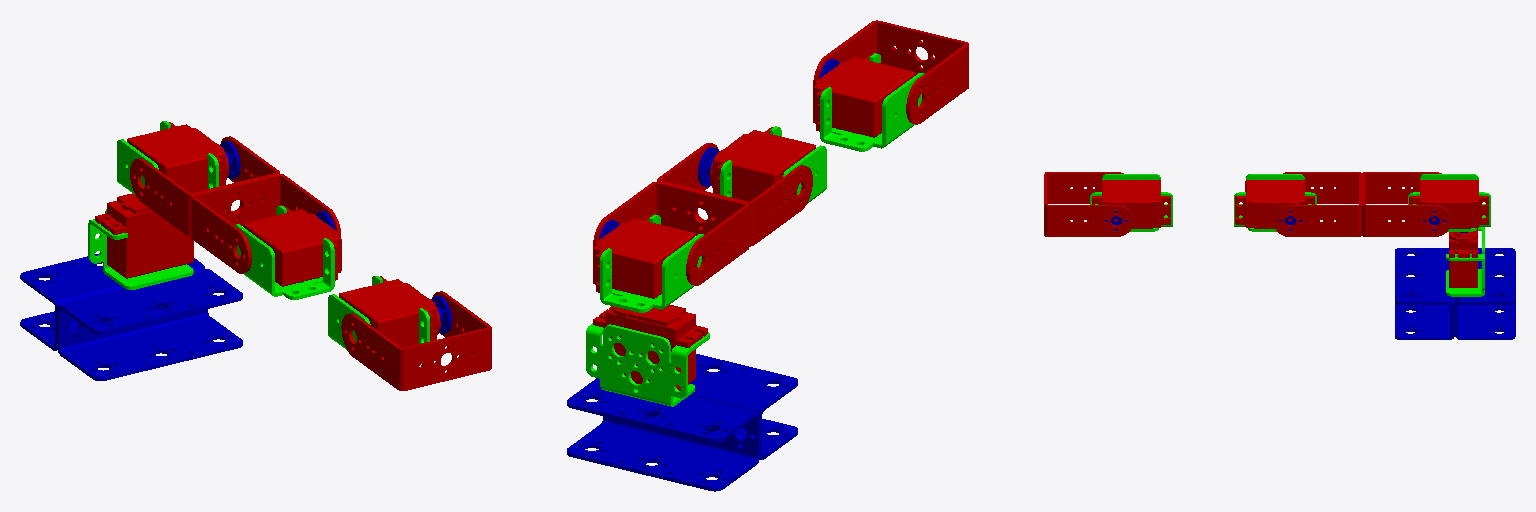
robot.urdf — test_robot:
<?xml version="1.0"?>
<robot name="test_robot">

  <material name="blue">
    <color rgba="0 0 0.8 1"/>
  </material>

  <material name="green">
    <color rgba="0 1 0 1"/>
  </material>

  <material name="red">
    <color rgba="0.8 0 0 1"/>
  </material>

  <link name="base_link">
    <visual>
     <geometry>
      <mesh filename="package://arm_20190630_3/meshes/base_bracket.stl" scale="0.01 0.01 0.01"/>
     </geometry>
     <material name="blue"/>
    </visual>
    <collision>
     <geometry>
      <mesh filename="package://arm_20190630_3/meshes/base_bracket.stl" scale="0.01 0.01 0.01"/>
     </geometry>
    </collision>
  </link>

  <joint name="joint1" type="fixed">
    <parent link="base_link"/>
    <child link="base_bracket_right"/>
    <origin xyz="0 0 0"/>
  </joint>

  <link name="base_bracket_right">
    <visual>
     <geometry>
      <mesh filename="package://arm_20190630_3/meshes/base_bracket.stl" scale="0.01 0.01 0.01"/>
     </geometry>
     <material name="blue"/>
     <origin rpy="0 0 3.1415" xyz="0 0 0"/>
    </visual>
    <collision>
     <geometry>
      <mesh filename="package://arm_20190630_3/meshes/base_bracket.stl" scale="0.01 0.01 0.01"/>
     </geometry>
    </collision>
  </link>

  <joint name="joint2" type="fixed">
    <parent link="base_link"/>
    <child link="base_servo_bracket"/>
    <origin rpy="0 0 1.5707" xyz="0.15 0.21 0"/>
  </joint>

  <link name="base_servo_bracket">
    <visual>
     <geometry>
      <mesh filename="package://arm_20190630_3/meshes/servo_bracket.stl" scale="0.01 0.01 0.01"/>
     </geometry>
     <material name="green"/>
     <origin rpy="0 0 1.5707" xyz="0 0 0"/>
    </visual>
    <collision>
     <geometry>
      <mesh filename="package://arm_20190630_3/meshes/servo_bracket.stl" scale="0.01 0.01 0.01"/>
     </geometry>
    </collision>
  </link>


  <joint name="joint3" type="fixed">
    <parent link="base_servo_bracket"/>
    <child link="base_servo"/>
    <origin xyz="-0.15 0 0.24"/>
  </joint>

  <link name="base_servo">
    <visual>
     <geometry>
      <mesh filename="package://arm_20190630_3/meshes/servo.stl" scale="0.01 0.01 0.01"/>
     </geometry>
     <material name="red"/>
     <origin rpy="1.5707 0 -1.5707" xyz="0 0 0"/>
    </visual>
    <collision>
     <geometry>
      <mesh filename="package://arm_20190630_3/meshes/servo.stl" scale="0.01 0.01 0.01"/>
     </geometry>
    </collision>
  </link>


  <joint name="joint4" type="revolute">
    <parent link="base_servo"/>
    <child link="base_servo_disc"/>
    <origin rpy="-1.5707 0 0" xyz="0 -0.105 0.27"/>
    <axis xyz="0 1 0"/>
    <limit effort="1000.0" lower="0.0" upper="3.1415" velocity="0.5"/>
  </joint>

  <link name="base_servo_disc">
    <visual>
     <geometry>
      <mesh filename="package://arm_20190630_3/meshes/servo_disc.stl" scale="0.01 0.01 0.01"/>
     </geometry>
     <material name="blue"/>
     <origin rpy="0 0 0" xyz="0 0 0"/>
    </visual>
    <collision>
     <geometry>
      <mesh filename="package://arm_20190630_3/meshes/servo_disc.stl" scale="0.01 0.01 0.01"/>
     </geometry>
    </collision>
  </link>


  <!-- Shoulder 1 block -->

  <joint name="joint5" type="fixed">
    <parent link="base_servo_disc"/>
    <child link="shoulder_servo_bracket"/>
    <origin rpy="3.1415 0 1.5707" xyz="-0.1 0 0.25"/>
  </joint>

  <link name="shoulder_servo_bracket">
    <visual>
     <geometry>
      <mesh filename="package://arm_20190630_3/meshes/servo_bracket.stl" scale="0.01 0.01 0.01"/>
     </geometry>
     <material name="green"/>
     <origin rpy="0 0 1.5707" xyz="0 0 0"/>
    </visual>
    <collision>
     <geometry>
      <mesh filename="package://arm_20190630_3/meshes/servo_bracket.stl" scale="0.01 0.01 0.01"/>
     </geometry>
    </collision>
  </link>


  <joint name="joint6" type="fixed">
    <parent link="shoulder_servo_bracket"/>
    <child link="shoulder_servo"/>
    <origin xyz="-0.15 0 0.24"/>
  </joint>

  <link name="shoulder_servo">
    <visual>
     <geometry>
      <mesh filename="package://arm_20190630_3/meshes/servo.stl" scale="0.01 0.01 0.01"/>
     </geometry>
     <material name="red"/>
     <origin rpy="1.5707 0 -1.5707" xyz="0 0 0"/>
    </visual>
    <collision>
     <geometry>
      <mesh filename="package://arm_20190630_3/meshes/servo.stl" scale="0.01 0.01 0.01"/>
     </geometry>
    </collision>
  </link>


  <joint name="joint7" type="revolute">
    <parent link="shoulder_servo"/>
    <child link="shoulder_servo_disc"/>
    <origin rpy="-1.5707 0 0" xyz="0 -0.105 0.27"/>
    <axis xyz="0 1 0"/>
    <limit effort="1000.0" lower="0.0" upper="3.1415" velocity="0.5"/>
  </joint>

  <link name="shoulder_servo_disc">
    <visual>
     <geometry>
      <mesh filename="package://arm_20190630_3/meshes/servo_disc.stl" scale="0.01 0.01 0.01"/>
     </geometry>
     <material name="blue"/>
     <origin rpy="0 0 0" xyz="0 0 0"/>
    </visual>
    <collision>
     <geometry>
      <mesh filename="package://arm_20190630_3/meshes/servo_disc.stl" scale="0.01 0.01 0.01"/>
     </geometry>
    </collision>
  </link>

  <joint name="joint8" type="fixed">
    <parent link="shoulder_servo_disc"/>
    <child link="shoulder_bracket"/>
    <origin rpy="1.5707 0 -1.5707" xyz="0 0.26 -0.5"/>
  </joint>

  <link name="shoulder_bracket">
    <visual>
     <geometry>
      <mesh filename="package://arm_20190630_3/meshes/u_bracket.stl" scale="0.01 0.01 0.01"/>
     </geometry>
     <material name="red"/>
    </visual>
    <collision>
     <geometry>
      <mesh filename="package://arm_20190630_3/meshes/u_bracket.stl" scale="0.01 0.01 0.01"/>
     </geometry>
    </collision>
  </link>


  <!-- Shoulder 2 block -->

  <joint name="joint9" type="fixed">
    <parent link="shoulder_bracket"/>
    <child link="shoulder2_bracket"/>
    <origin rpy="3.1415 0 0" xyz="0 0 0"/>
  </joint>

  <link name="shoulder2_bracket">
    <visual>
     <geometry>
      <mesh filename="package://arm_20190630_3/meshes/u_bracket.stl" scale="0.01 0.01 0.01"/>
     </geometry>
     <material name="red"/>
    </visual>
    <collision>
     <geometry>
      <mesh filename="package://arm_20190630_3/meshes/u_bracket.stl" scale="0.01 0.01 0.01"/>
     </geometry>
    </collision>
  </link>

  <joint name="joint10" type="revolute">
    <parent link="shoulder2_bracket"/>
    <child link="shoulder2_servo_disc"/>
    <origin rpy="0 0 1.5707" xyz="0.26 0.5 0"/>
    <axis xyz="0 1 0"/>
    <limit effort="1000.0" lower="-1.5707" upper="1.5707" velocity="0.5"/>
  </joint>

  <link name="shoulder2_servo_disc">
    <visual>
     <geometry>
      <mesh filename="package://arm_20190630_3/meshes/servo_disc.stl" scale="0.01 0.01 0.01"/>
     </geometry>
     <material name="blue"/>
     <origin rpy="0 0 0" xyz="0 0 0"/>
    </visual>
    <collision>
     <geometry>
      <mesh filename="package://arm_20190630_3/meshes/servo_disc.stl" scale="0.01 0.01 0.01"/>
     </geometry>
    </collision>
  </link>

  <joint name="joint11" type="fixed">
    <parent link="shoulder2_servo_disc"/>
    <child link="shoulder2_servo"/>
    <origin rpy="3.1415 3.1415 0" xyz="0.105 0.27 0"/>
  </joint>

  <link name="shoulder2_servo">
    <visual>
     <geometry>
      <mesh filename="package://arm_20190630_3/meshes/servo.stl" scale="0.01 0.01 0.01"/>
     </geometry>
     <material name="red"/>
     <origin rpy="0 0 0" xyz="0 0 0"/>
    </visual>
    <collision>
     <geometry>
      <mesh filename="package://arm_20190630_3/meshes/servo.stl" scale="0.01 0.01 0.01"/>
     </geometry>
    </collision>
  </link>

  <joint name="joint12" type="fixed">
    <parent link="shoulder2_servo"/>
    <child link="shoulder2_servo_bracket"/>
    <origin rpy="-1.5707 0 0" xyz="0 -0.24 0.15"/>
  </joint>

  <link name="shoulder2_servo_bracket">
    <visual>
     <geometry>
      <mesh filename="package://arm_20190630_3/meshes/servo_bracket.stl" scale="0.01 0.01 0.01"/>
     </geometry>
     <material name="green"/>
     <origin rpy="0 0 0" xyz="0 0 0"/>
    </visual>
    <collision>
     <geometry>
      <mesh filename="package://arm_20190630_3/meshes/servo_bracket.stl" scale="0.01 0.01 0.01"/>
     </geometry>
    </collision>
  </link>


  <!-- Elbow block -->

  <joint name="joint13" type="fixed">
    <parent link="shoulder2_servo_bracket"/>
    <child link="elbow_servo_bracket"/>
    <origin rpy="0 0 -1.5707" xyz="-1.0 0 0"/>
  </joint>

  <link name="elbow_servo_bracket">
    <visual>
     <geometry>
      <mesh filename="package://arm_20190630_3/meshes/servo_bracket.stl" scale="0.01 0.01 0.01"/>
     </geometry>
     <material name="green"/>
     <origin rpy="0 0 1.5707" xyz="0 0 0"/>
    </visual>
    <collision>
     <geometry>
      <mesh filename="package://arm_20190630_3/meshes/servo_bracket.stl" scale="0.01 0.01 0.01"/>
     </geometry>
    </collision>
  </link>

  <joint name="joint14" type="fixed">
    <parent link="elbow_servo_bracket"/>
    <child link="elbow_servo"/>
    <origin xyz="-0.15 0 0.24"/>
  </joint>

  <link name="elbow_servo">
    <visual>
     <geometry>
      <mesh filename="package://arm_20190630_3/meshes/servo.stl" scale="0.01 0.01 0.01"/>
     </geometry>
     <material name="red"/>
     <origin rpy="1.5707 0 -1.5707" xyz="0 0 0"/>
    </visual>
    <collision>
     <geometry>
      <mesh filename="package://arm_20190630_3/meshes/servo.stl" scale="0.01 0.01 0.01"/>
     </geometry>
    </collision>
  </link>


  <joint name="joint15" type="revolute">
    <parent link="elbow_servo"/>
    <child link="elbow_servo_disc"/>
    <origin rpy="-1.5707 0 0" xyz="0 -0.105 0.27"/>
    <axis xyz="0 1 0"/>
    <limit effort="1000.0" lower="0.0" upper="3.1415" velocity="0.5"/>
  </joint>

  <link name="elbow_servo_disc">
    <visual>
     <geometry>
      <mesh filename="package://arm_20190630_3/meshes/servo_disc.stl" scale="0.01 0.01 0.01"/>
     </geometry>
     <material name="blue"/>
     <origin rpy="0 0 0" xyz="0 0 0"/>
    </visual>
    <collision>
     <geometry>
      <mesh filename="package://arm_20190630_3/meshes/servo_disc.stl" scale="0.01 0.01 0.01"/>
     </geometry>
    </collision>
  </link>

  <joint name="joint16" type="fixed">
    <parent link="elbow_servo_disc"/>
    <child link="elbow_bracket"/>
    <origin rpy="1.5707 0 -1.5707" xyz="0 0.26 -0.5"/>
  </joint>

  <link name="elbow_bracket">
    <visual>
     <geometry>
      <mesh filename="package://arm_20190630_3/meshes/u_bracket.stl" scale="0.01 0.01 0.01"/>
     </geometry>
     <material name="red"/>
    </visual>
    <collision>
     <geometry>
      <mesh filename="package://arm_20190630_3/meshes/u_bracket.stl" scale="0.01 0.01 0.01"/>
     </geometry>
    </collision>
  </link>







  <!-- Shoulder 2 block -->
<!-- 
  <joint name="joint9" type="fixed">
    <parent link="shoulder_bracket_1"/>
    <child link="shoulder2_servo_bracket"/>
    <origin rpy="0 1.5707 3.1415" xyz="0.25 -0.61 -0.15"/>
  </joint>

  <link name="shoulder2_servo_bracket">
    <visual>
     <geometry>
      <mesh filename="package://arm_20190630_3/meshes/servo_bracket.stl" scale="0.01 0.01 0.01"/>
     </geometry>
     <material name="green"/>
     <origin rpy="0 0 1.5707" xyz="0 0 0"/>
    </visual>
    <collision>
     <geometry>
      <mesh filename="package://arm_20190630_3/meshes/servo_bracket.stl" scale="0.01 0.01 0.01"/>
     </geometry>
    </collision>
  </link>


  <joint name="joint10" type="fixed">
    <parent link="shoulder2_servo_bracket"/>
    <child link="shoulder2_servo"/>
    <origin xyz="-0.15 0 0.24"/>
  </joint>

  <link name="shoulder2_servo">
    <visual>
     <geometry>
      <mesh filename="package://arm_20190630_3/meshes/servo.stl" scale="0.01 0.01 0.01"/>
     </geometry>
     <material name="red"/>
     <origin rpy="1.5707 0 -1.5707" xyz="0 0 0"/>
    </visual>
    <collision>
     <geometry>
      <mesh filename="package://arm_20190630_3/meshes/servo.stl" scale="0.01 0.01 0.01"/>
     </geometry>
    </collision>
  </link>


  <joint name="joint11" type="revolute">
    <parent link="shoulder2_servo"/>
    <child link="shoulder2_servo_disc"/>
    <origin rpy="-1.5707 0 0" xyz="0 -0.105 0.27"/>
    <axis xyz="0 1 0"/>
    <limit effort="1000.0" lower="0.0" upper="3.1415" velocity="0.5"/>
  </joint>

  <link name="shoulder2_servo_disc">
    <visual>
     <geometry>
      <mesh filename="package://arm_20190630_3/meshes/servo_disc.stl" scale="0.01 0.01 0.01"/>
     </geometry>
     <material name="blue"/>
     <origin rpy="0 0 0" xyz="0 0 0"/>
    </visual>
    <collision>
     <geometry>
      <mesh filename="package://arm_20190630_3/meshes/servo_disc.stl" scale="0.01 0.01 0.01"/>
     </geometry>
    </collision>
  </link>


  <joint name="joint12" type="fixed">
    <parent link="shoulder2_servo_disc"/>
    <child link="shoulder2_bracket_1"/>
    <origin rpy="1.5707 0 -1.5707" xyz="0 0.26 -0.5"/>
  </joint>

  <link name="shoulder2_bracket_1">
    <visual>
     <geometry>
      <mesh filename="package://arm_20190630_3/meshes/u_bracket.stl" scale="0.01 0.01 0.01"/>
     </geometry>
     <material name="red"/>
    </visual>
    <collision>
     <geometry>
      <mesh filename="package://arm_20190630_3/meshes/u_bracket.stl" scale="0.01 0.01 0.01"/>
     </geometry>
    </collision>
  </link>

 -->








<!--
  <joint name="joint2" type="revolute">
    <axis xyz="-1 0 0" />
    <limit effort="1000.0" lower="-1.708" upper="1.708" velocity="1.0" />
    <origin xyz="0 0 0.093" rpy="0 0 0" />
    <parent link="platform"/>
    <child link="lower_arm"/>
  </joint>

  <joint name="joint3" type="revolute">
    <axis xyz="1 0 0" />
    <limit effort="1000.0" lower="-1.708" upper="1.708" velocity="1.0" />
    <origin xyz="0 0 0.121" rpy="0 0 0" />
    <parent link="lower_arm"/>
    <child link="upper_arm"/>
  </joint>

  <joint name="joint4" type="revolute">
    <axis xyz="-1 0 0" />
    <limit effort="1000.0" lower="-1.708" upper="1.708" velocity="1.0" />
    <origin xyz="0 0 0.112" rpy="0 0 0" />
    <parent link="upper_arm"/>
    <child link="wrist"/>
  </joint>

  <joint name="joint5" type="fixed">
    <axis xyz="-1 0 0" />
    <origin xyz="0 0 0.112" rpy="0 0 0" />
    <parent link="wrist"/>
    <child link="claw_base"/>
  </joint>

  <joint name="joint6" type="revolute">
    <axis xyz="0 1 0" />
    <limit effort="1000.0" lower="-0.15" upper="0.30" velocity="1.0" />
    <origin xyz="-0.027 0 0" rpy="0 0 0" />
    <parent link="claw_base"/>
    <child link="claw_l"/>
  </joint>

  <joint name="joint7" type="revolute">
    <axis xyz="0 -1 0" />
    <limit effort="1000.0" lower="-0.15" upper="0.30" velocity="1.0" />
    <origin xyz="-0.027 0 0" rpy="0 0 0" />
    <parent link="claw_base"/>
    <child link="claw_r"/>
  </joint> -->

</robot>

--- Render facts (derived) ---
Views: 3 orthographic renders of the robot side by side, from view 1: azimuth 30°, elevation 25°; view 2: azimuth 150°, elevation 25°; view 3: azimuth 270°, elevation 25°.
Robot: test_robot — 17 links, 16 joints (4 revolute, 12 fixed); root link base_link; default pose: all joints at 0.
Visible links, largest first — view 1: base_bracket_right, elbow_bracket, shoulder2_bracket, base_servo, shoulder2_servo, base_link, shoulder_servo, elbow_servo, shoulder_bracket, shoulder2_servo_bracket, base_servo_bracket, elbow_servo_bracket (+1 smaller); view 2: base_link, shoulder_bracket, elbow_bracket, base_servo_bracket, base_bracket_right, elbow_servo, shoulder_servo, shoulder2_servo, shoulder2_bracket, base_servo, elbow_servo_bracket, shoulder_servo_bracket (+1 smaller); view 3: base_bracket_right, elbow_bracket, shoulder_bracket, shoulder2_bracket, base_link, shoulder2_servo, shoulder_servo, elbow_servo, base_servo, base_servo_bracket, elbow_servo_bracket, shoulder_servo_bracket (+1 smaller).
Link boxes in pixels (left/top/right/bottom): base_bracket_right: left=57, top=269, right=242, bottom=380; elbow_bracket: left=341, top=291, right=491, bottom=390; shoulder2_bracket: left=191, top=174, right=340, bottom=273; base_servo: left=95, top=193, right=193, bottom=278; shoulder2_servo: left=243, top=206, right=341, bottom=286; base_link: left=20, top=254, right=205, bottom=350; shoulder_servo: left=127, top=122, right=228, bottom=192; elbow_servo: left=339, top=276, right=440, bottom=347; shoulder_bracket: left=130, top=136, right=279, bottom=235; shoulder2_servo_bracket: left=234, top=205, right=334, bottom=299; base_servo_bracket: left=88, top=209, right=193, bottom=289; elbow_servo_bracket: left=328, top=276, right=429, bottom=349; base_link: left=567, top=378, right=759, bottom=491; shoulder_bracket: left=593, top=182, right=748, bottom=285; elbow_bracket: left=813, top=20, right=968, bottom=124; base_servo_bracket: left=586, top=323, right=709, bottom=406; base_bracket_right: left=689, top=354, right=797, bottom=459; elbow_servo: left=813, top=54, right=915, bottom=137; shoulder_servo: left=593, top=215, right=694, bottom=298; shoulder2_servo: left=710, top=127, right=815, bottom=201; shoulder2_bracket: left=657, top=143, right=812, bottom=246; base_servo: left=593, top=305, right=707, bottom=390; elbow_servo_bracket: left=820, top=53, right=924, bottom=151; shoulder_servo_bracket: left=600, top=214, right=703, bottom=312; base_bracket_right: left=1395, top=248, right=1454, bottom=339; elbow_bracket: left=1044, top=172, right=1133, bottom=236; shoulder_bracket: left=1362, top=172, right=1451, bottom=236; shoulder2_bracket: left=1273, top=172, right=1361, bottom=236; base_link: left=1455, top=248, right=1515, bottom=339; shoulder2_servo: left=1235, top=180, right=1314, bottom=228; shoulder_servo: left=1409, top=180, right=1488, bottom=228; elbow_servo: left=1092, top=180, right=1170, bottom=228; base_servo: left=1449, top=228, right=1477, bottom=287; base_servo_bracket: left=1446, top=227, right=1484, bottom=296; elbow_servo_bracket: left=1090, top=174, right=1172, bottom=231; shoulder_servo_bracket: left=1408, top=174, right=1490, bottom=231.
Bounding box of the posed robot: 0.9851 × 3.27 × 1.07 m (x, y, z).
17 mesh visuals loaded from 5 distinct referenced files (5 binary STL).